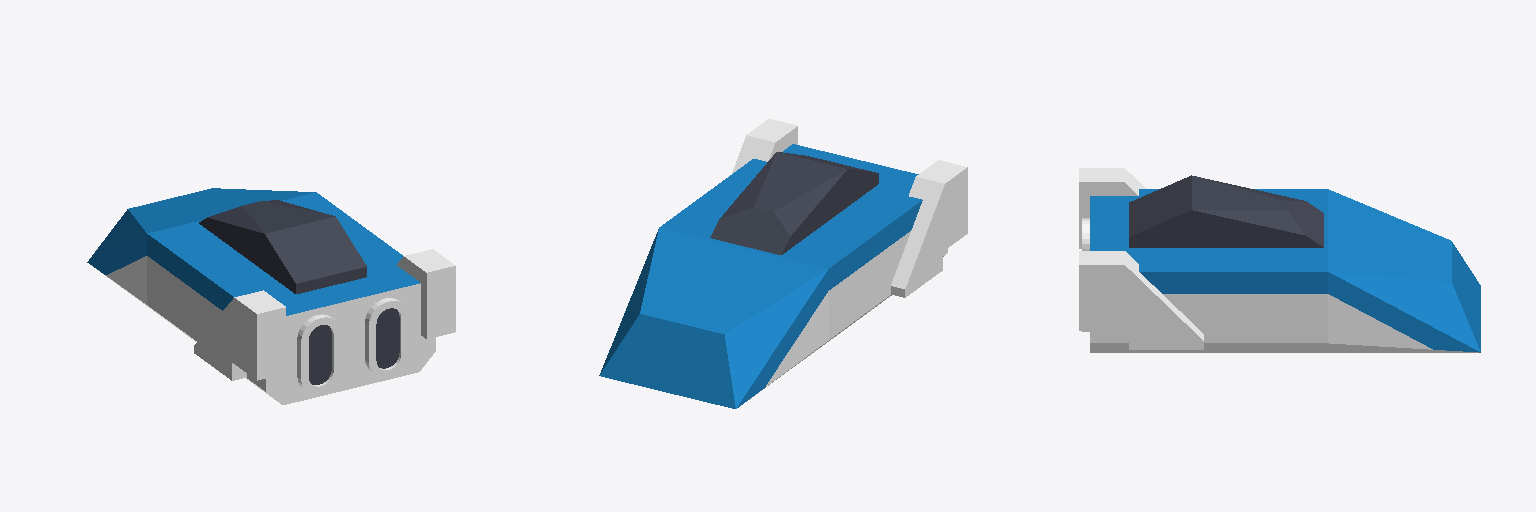
The model's file is player.obj.
3 renders of one model, left to right at view 1: azimuth 30°, elevation 25°; view 2: azimuth 150°, elevation 25°; view 3: azimuth 270°, elevation 25°, orthographic.
Bounding box in the file's own units: 1.17 × 0.7133 × 2.05.